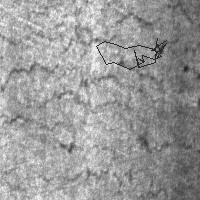crazing: (1, 60, 158, 131), (12, 1, 194, 56), (32, 138, 147, 185), (130, 105, 192, 156), (96, 38, 166, 69)
